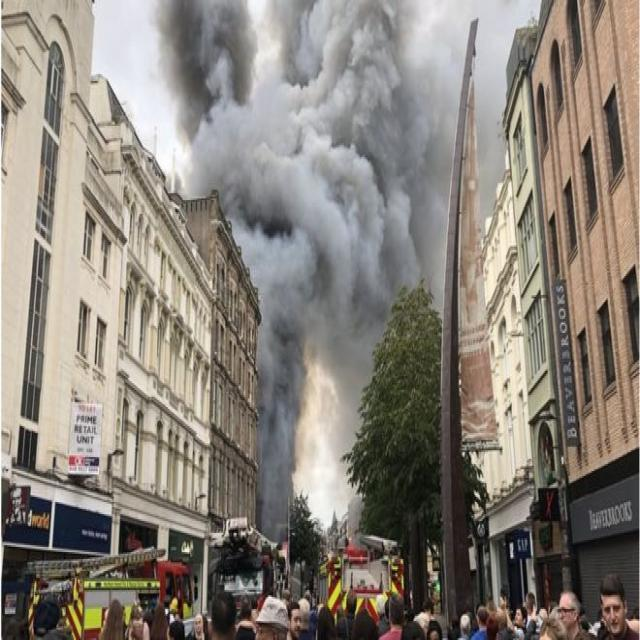Smoke: (148, 2, 540, 550)
